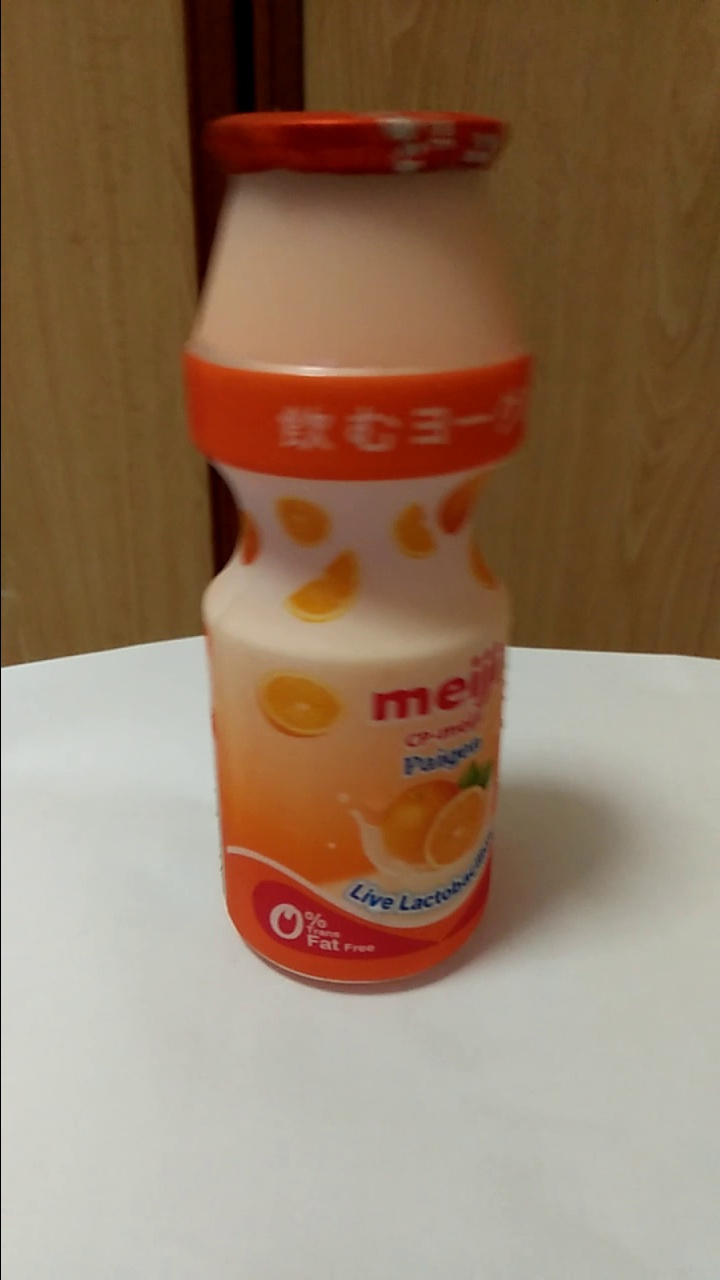milk: (196, 112, 509, 998)
